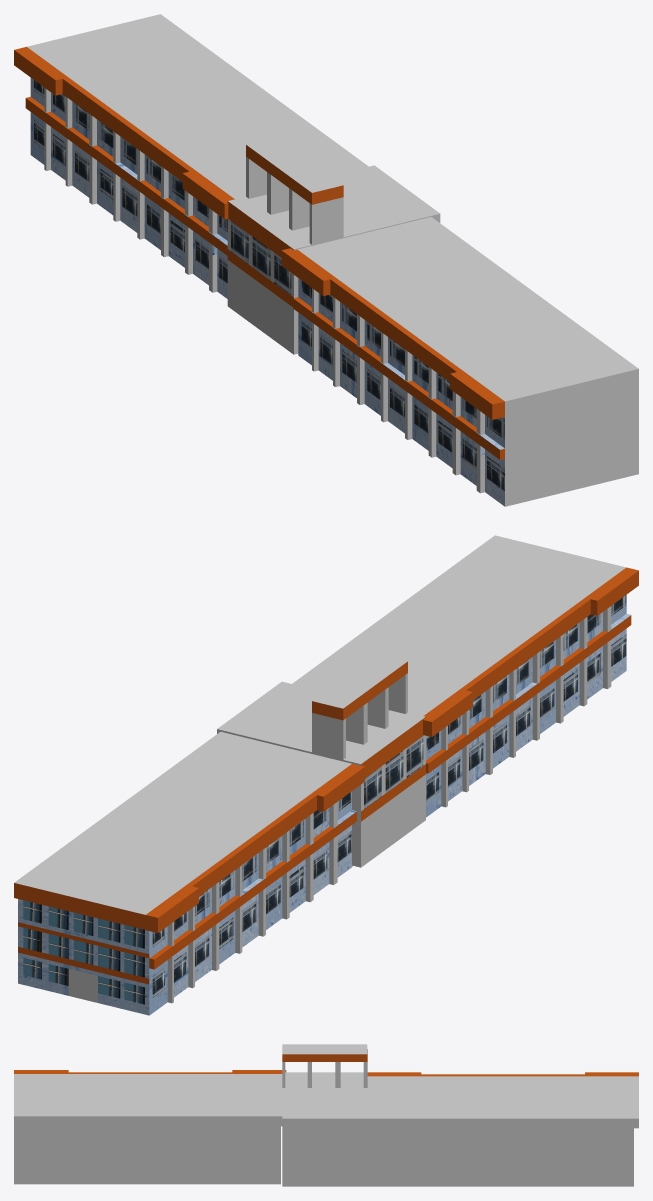
File: archi.fbx
3 views of the same model, one above another, from view 1: azimuth 30°, elevation 25°; view 2: azimuth 150°, elevation 25°; view 3: azimuth 270°, elevation 25° (orthographic). The views are drawn at different scales.
Visible parts, largest first — view 1: Cube.002; view 2: Cube.002; view 3: Cube.002.
Part boxes in pixels (left/top/right/bottom): Cube.002: left=14, top=14, right=638, bottom=506; Cube.002: left=14, top=535, right=638, bottom=1015; Cube.002: left=14, top=1044, right=638, bottom=1186.
Size of the model in its own units: 2996 by 2925 by 16119.
7 materials, 3 textured.
